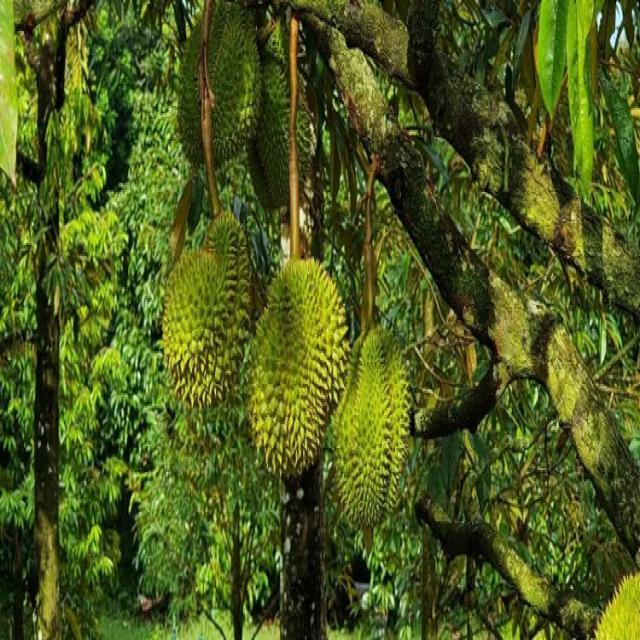Sau Rieng: (248, 260, 348, 466), (331, 324, 415, 528), (164, 245, 245, 410), (255, 45, 299, 202), (178, 8, 218, 169), (595, 565, 640, 640)
